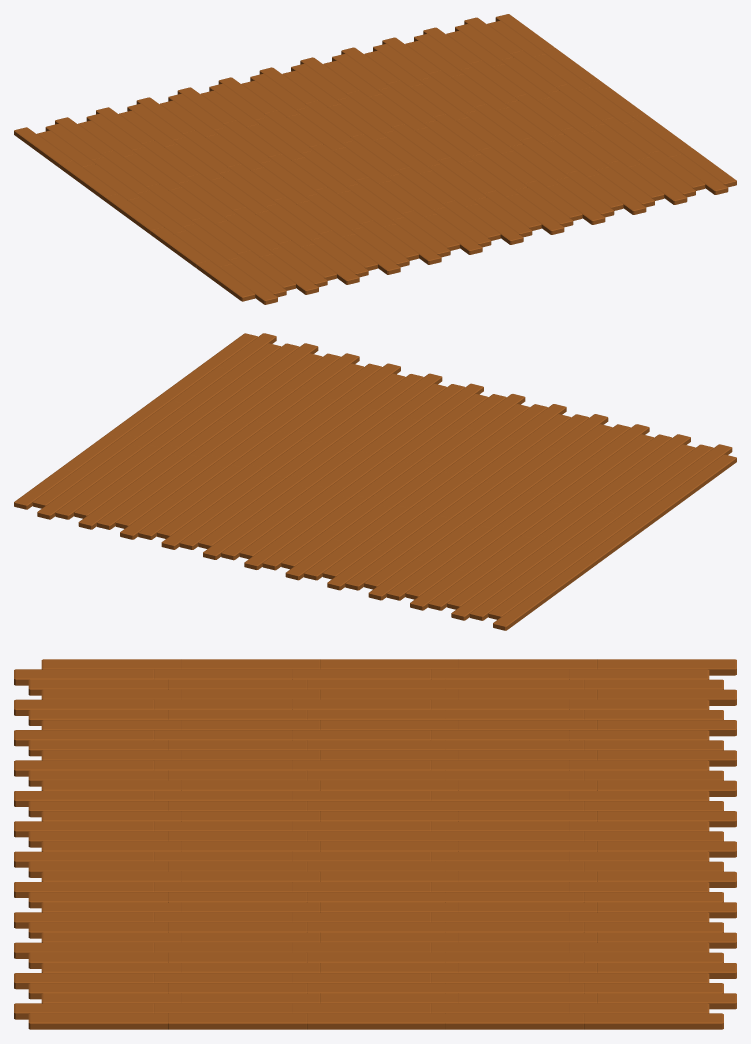
Rendered from CastleFloor.fbx.
3 views of the same model, one above another, from view 1: azimuth 30°, elevation 25°; view 2: azimuth 150°, elevation 25°; view 3: azimuth 270°, elevation 25° (orthographic). The views are drawn at different scales.
Visible parts, largest first — view 1: Cube; view 2: Cube; view 3: Cube.
Boxes of the visible parts, x1,y1,x2,y2 form: Cube: [14, 14, 736, 304]; Cube: [14, 333, 736, 630]; Cube: [14, 659, 736, 1029].
Size of the model in its own units: 7200 by 65.43 by 6038.
